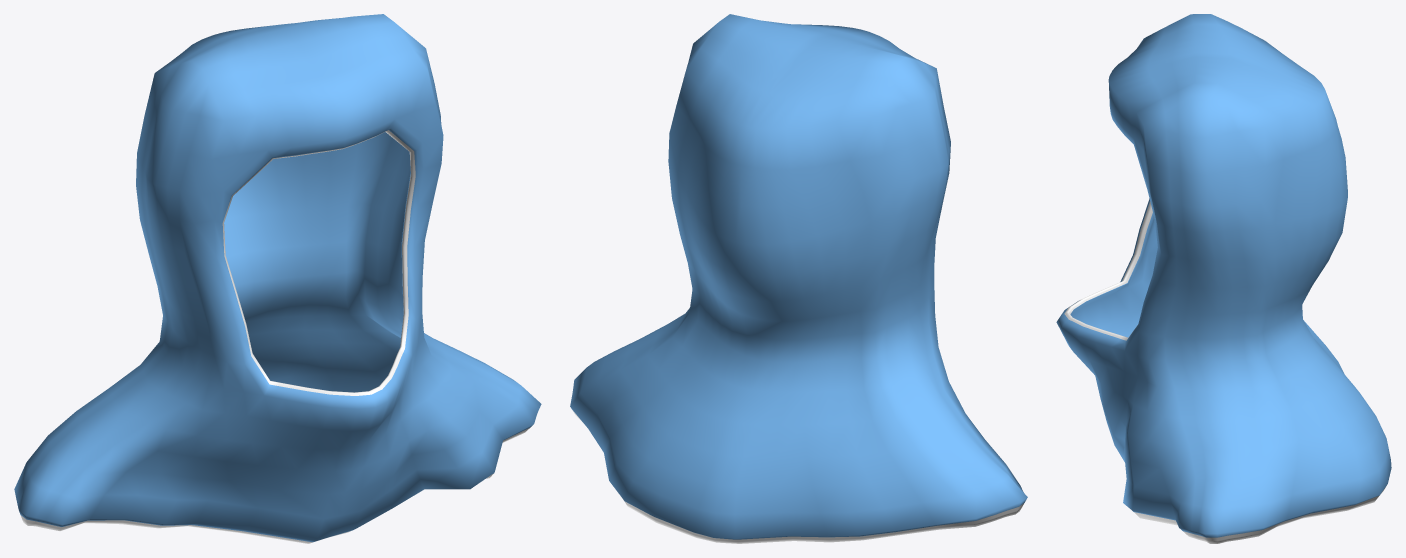
File: hood.fbx
3 renders of one model, left to right at view 1: azimuth 30°, elevation 25°; view 2: azimuth 150°, elevation 25°; view 3: azimuth 270°, elevation 25°, orthographic. The views are drawn at different scales.
Visible parts, largest first — view 1: hood; view 2: hood; view 3: hood.
Part boxes in pixels (x1=…): hood: x1=14, y1=14, x2=541, y2=543; hood: x1=570, y1=14, x2=1027, y2=543; hood: x1=1056, y1=14, x2=1391, y2=543.
Size of the model in its own units: 38.3 by 34.61 by 25.36.
